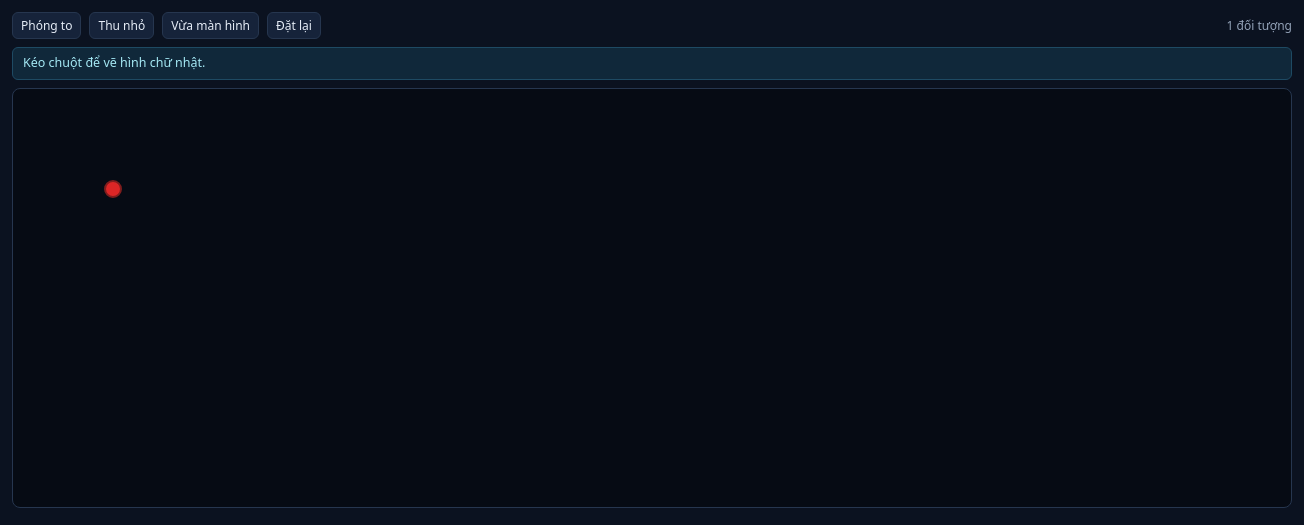
Scenario: DziViewer › interaction layer › shows a drag preview while the pointer is down
Press the mouse on the element with test id "drawing-layer" at (652, 298), box [13, 89, 1291, 507]
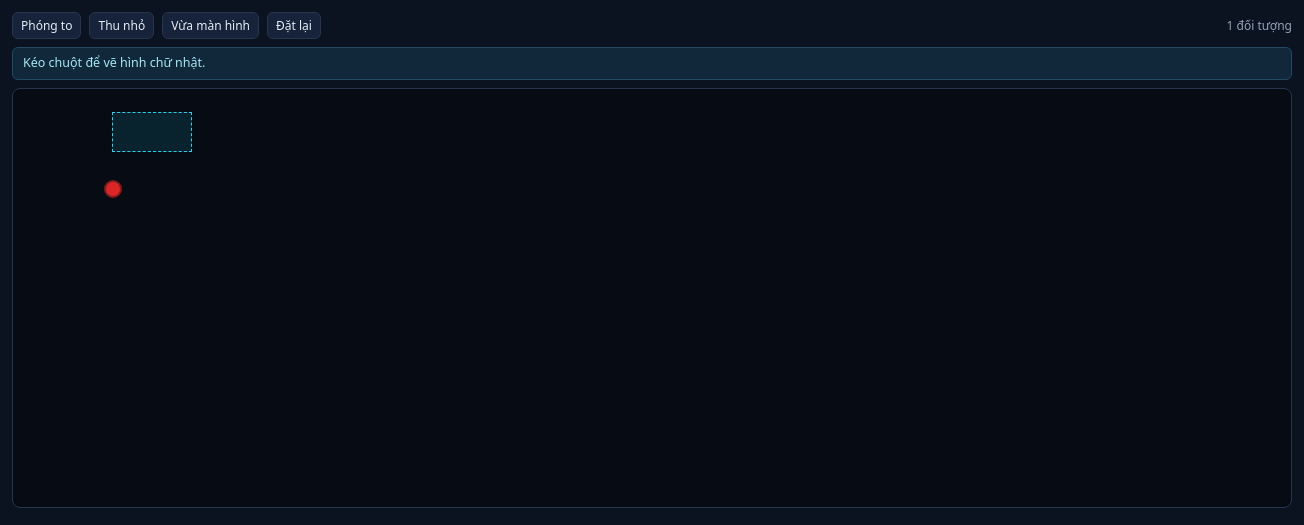
expect the element with test id "drag-preview" is shown: met, box [112, 112, 192, 152]
